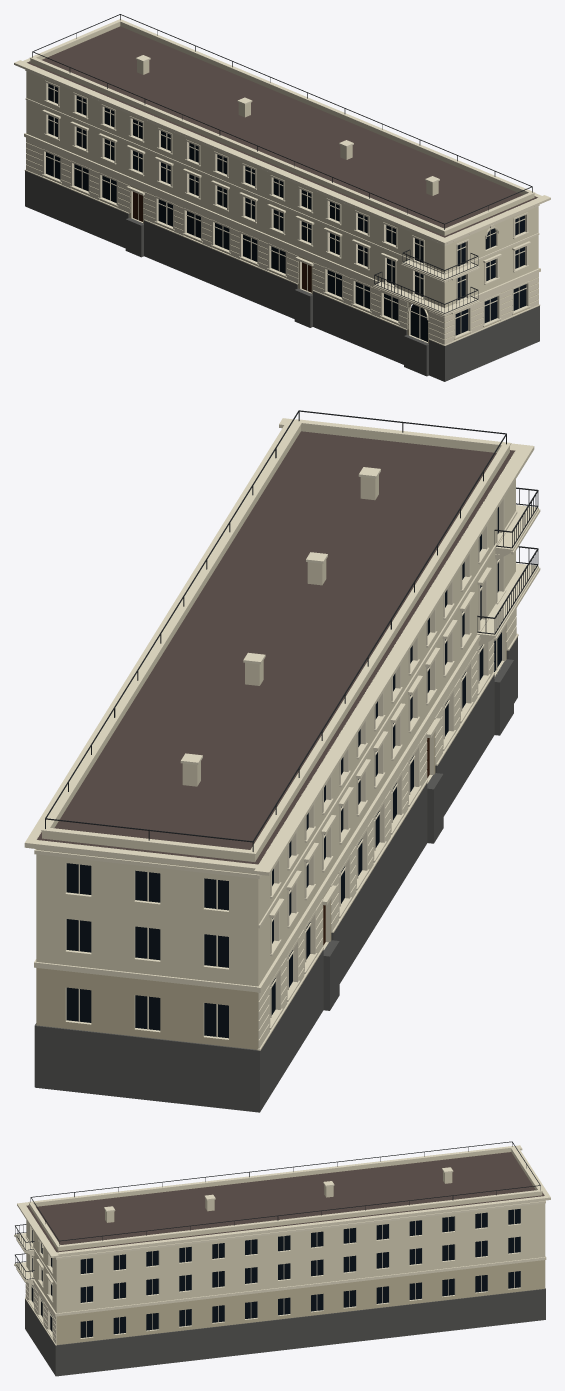
3 renders of one model, top to bottom at view 1: azimuth 30°, elevation 25°; view 2: azimuth 150°, elevation 25°; view 3: azimuth 270°, elevation 25°, orthographic. The views are drawn at different scales.
Visible parts, largest first — view 1: bm19_trim, bm19_roof, bm19_wall, bm19_stone, bm19_glass, bm19_metal, bm19_wall2, bm19_wood; view 2: bm19_roof, bm19_trim, bm19_wall, bm19_stone, bm19_wall2, bm19_glass, bm19_metal; view 3: bm19_wall, bm19_roof, bm19_stone, bm19_trim, bm19_wall2, bm19_glass, bm19_metal.
Boxes of the visible parts, <box> form: bm19_trim: <box>14,19,550,345</box>; bm19_roof: <box>27,26,537,237</box>; bm19_wall: <box>26,22,538,307</box>; bm19_stone: <box>25,171,539,381</box>; bm19_glass: <box>46,84,526,341</box>; bm19_metal: <box>32,14,532,313</box>; bm19_wall2: <box>26,142,538,343</box>; bm19_wood: <box>133,191,311,292</box>; bm19_roof: <box>37,431,515,864</box>; bm19_trim: <box>24,418,540,1050</box>; bm19_wall: <box>36,424,515,986</box>; bm19_stone: <box>34,637,517,1112</box>; bm19_wall2: <box>36,626,506,1049</box>; bm19_glass: <box>66,507,501,1038</box>; bm19_metal: <box>45,410,538,851</box>; bm19_wall: <box>26,1148,545,1313</box>; bm19_roof: <box>26,1152,544,1252</box>; bm19_stone: <box>25,1288,545,1376</box>; bm19_trim: <box>14,1145,550,1345</box>; bm19_wall2: <box>56,1260,545,1344</box>; bm19_glass: <box>31,1209,520,1337</box>; bm19_metal: <box>15,1141,540,1279</box>.
Bounding box in the file's own units: 27.77 × 15.84 × 56.71.
